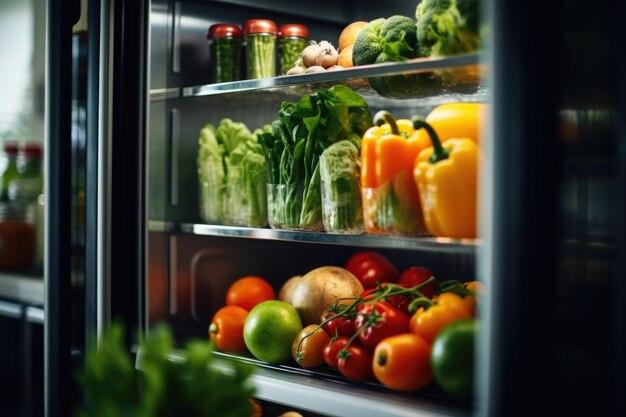bell pepper: (365, 96, 486, 235)
tomato: (316, 302, 400, 386)
